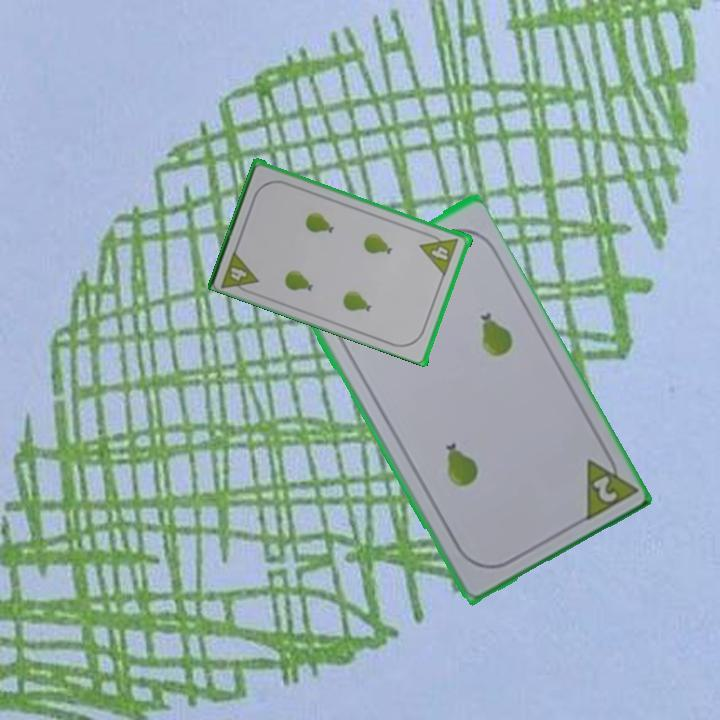2p: (579, 444, 638, 525)
4p: (217, 246, 262, 298), (417, 229, 462, 277)
